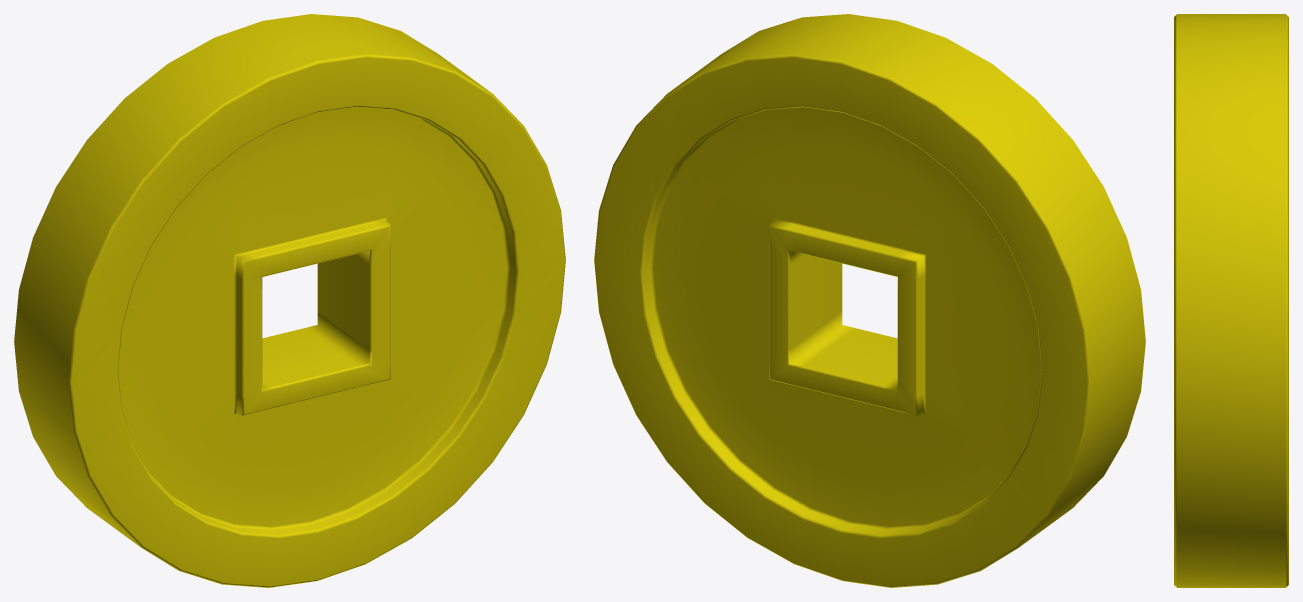
File: Coin_Mesh.fbx
3 renders of one model, left to right at view 1: azimuth 30°, elevation 25°; view 2: azimuth 150°, elevation 25°; view 3: azimuth 270°, elevation 25°, orthographic.
Parts seen in each view (by area): view 1: Cylinder; view 2: Cylinder; view 3: Cylinder.
Part boxes in pixels (box(x1,y1,x2,y2)): Cylinder: box(14, 14, 565, 587); Cylinder: box(594, 14, 1145, 587); Cylinder: box(1174, 14, 1288, 587).
Size of the model in its own units: 0.7874 by 0.7874 by 0.1575.
